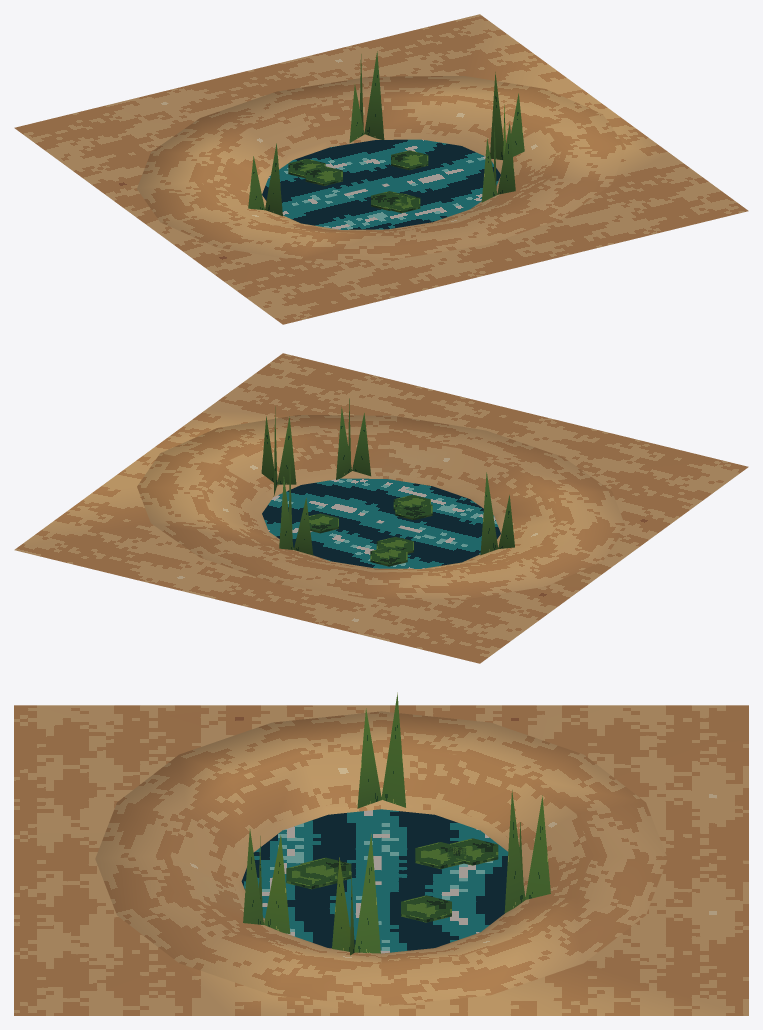
File: wild.oasis__small.glb
3 views of the same model, one above another, from view 1: azimuth 30°, elevation 25°; view 2: azimuth 150°, elevation 25°; view 3: azimuth 270°, elevation 25° (orthographic). The views are drawn at different scales.
Parts seen in each view (by area): view 1: kit_shell_skirt, kit_bank, kit_shell_water, kit_shell_reeds, kit_pads; view 2: kit_shell_skirt, kit_bank, kit_shell_water, kit_shell_reeds, kit_pads; view 3: kit_shell_skirt, kit_bank, kit_shell_water, kit_shell_reeds, kit_pads.
Part boxes in pixels (bbox=[...]): kit_shell_skirt: bbox=[14, 14, 748, 324]; kit_bank: bbox=[137, 76, 625, 260]; kit_shell_water: bbox=[262, 139, 500, 229]; kit_shell_reeds: bbox=[248, 51, 524, 216]; kit_pads: bbox=[288, 150, 428, 212]; kit_shell_skirt: bbox=[14, 353, 748, 663]; kit_bank: bbox=[137, 415, 625, 599]; kit_shell_water: bbox=[262, 478, 500, 568]; kit_shell_reeds: bbox=[261, 398, 514, 555]; kit_pads: bbox=[308, 495, 432, 566]; kit_shell_skirt: bbox=[14, 705, 748, 1015]; kit_bank: bbox=[95, 711, 667, 1006]; kit_shell_water: bbox=[241, 809, 508, 953]; kit_shell_reeds: bbox=[243, 692, 550, 955]; kit_pads: bbox=[286, 838, 498, 922].
Size of the model in its own units: 8 by 1.56 by 8.
4 materials, 4 textured.
